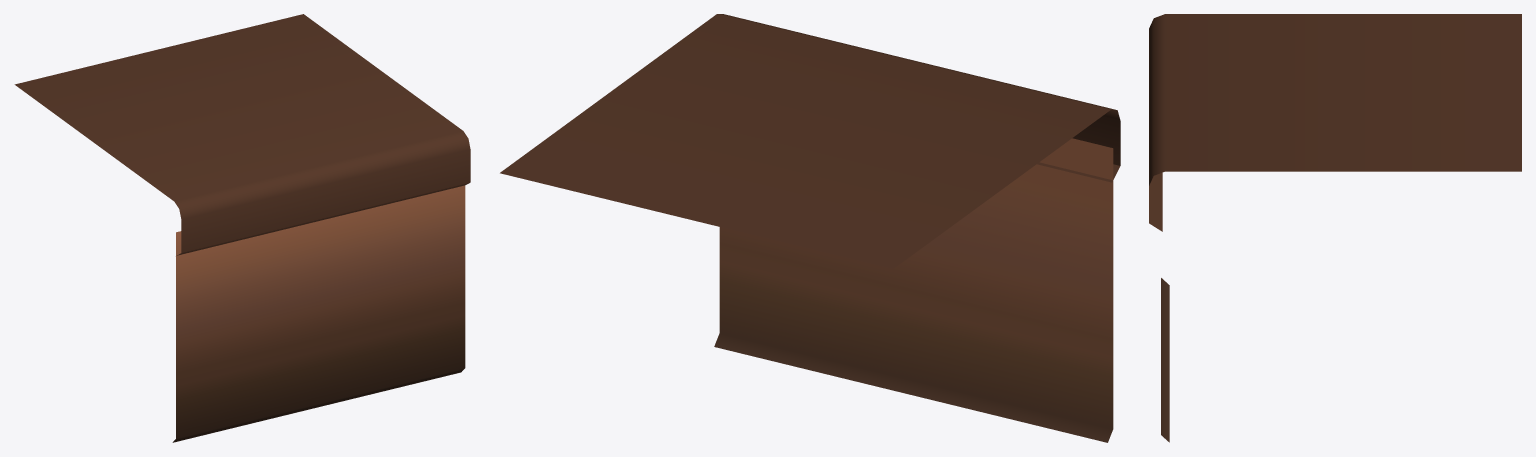
File: OldGround1_2.fbx
3 renders of one model, left to right at view 1: azimuth 30°, elevation 25°; view 2: azimuth 150°, elevation 25°; view 3: azimuth 270°, elevation 25°, orthographic. The views are drawn at different scales.
Visible parts, largest first — view 1: OldGround1_2; view 2: OldGround1_2; view 3: OldGround1_2.
Boxes of the visible parts, bbox=[...] form: OldGround1_2: bbox=[14, 14, 470, 442]; OldGround1_2: bbox=[500, 14, 1120, 442]; OldGround1_2: bbox=[1149, 14, 1521, 442].
Bounding box in the file's own units: 400 × 321 × 400.
